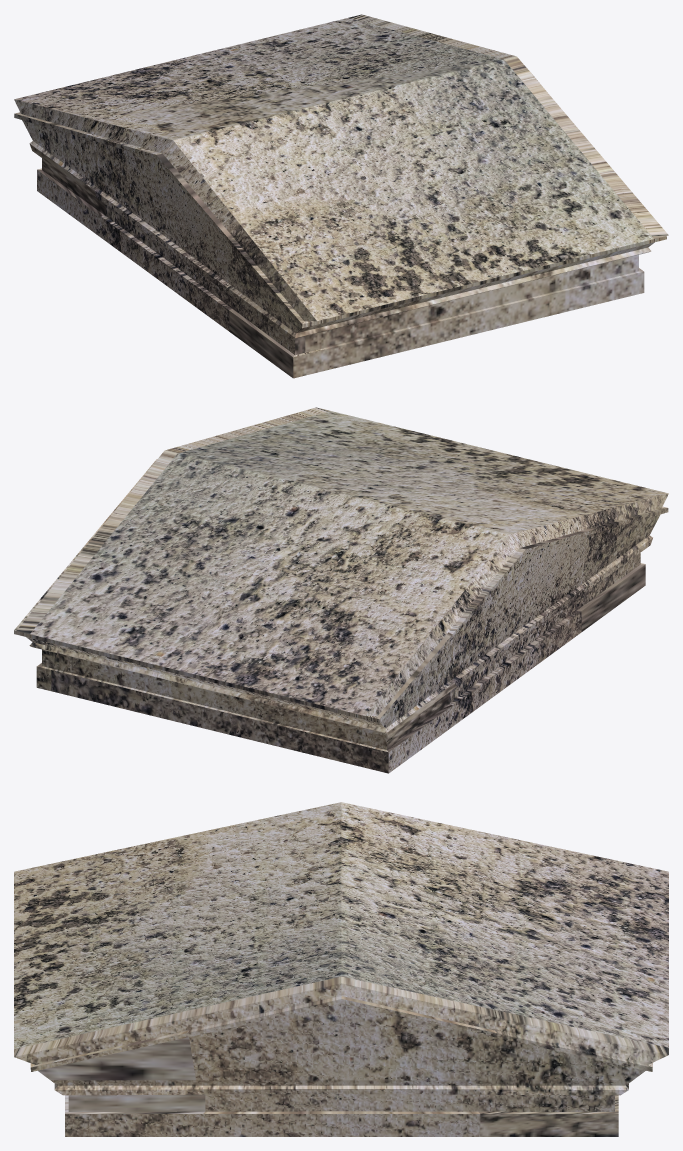
Rendered from Ruin_Roof_End.fbx.
3 views of the same model, one above another, from view 1: azimuth 30°, elevation 25°; view 2: azimuth 150°, elevation 25°; view 3: azimuth 270°, elevation 25° (orthographic). The views are drawn at different scales.
Visible parts, largest first — view 1: Ruins_Top; view 2: Ruins_Top; view 3: Ruins_Top.
Part boxes in pixels (x1,y1,x2,y2): Ruins_Top: (14,14,668,378); Ruins_Top: (14,407,668,773); Ruins_Top: (14,802,668,1136).
Size of the model in its own units: 1816 by 672 by 2590.
1 material, 1 textured.
